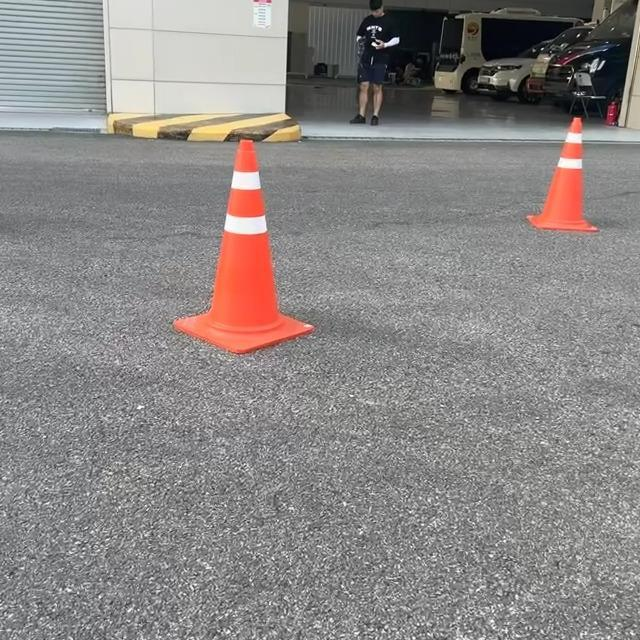fallen_object: (130, 147, 416, 368), (460, 105, 640, 330)
